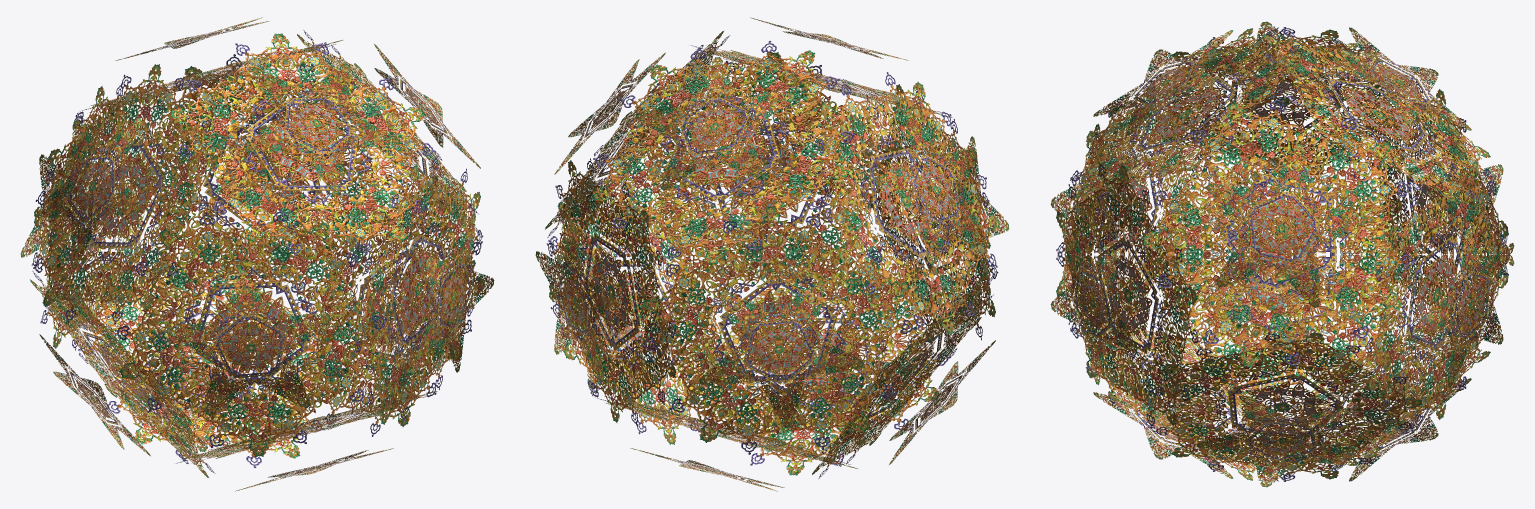
The model's file is 1SnubDodecadodecahedron.gltf.
The picture shows the model from 3 angles, left to right: view 1: azimuth 30°, elevation 25°; view 2: azimuth 150°, elevation 25°; view 3: azimuth 270°, elevation 25°; orthographic projection.
Parts seen in each view (by area): view 1: SnubDodecadodecahedron8; view 2: SnubDodecadodecahedron8; view 3: SnubDodecadodecahedron8.
Part boxes in pixels (x1=…): SnubDodecadodecahedron8: x1=20, y1=17, x2=494, y2=491; SnubDodecadodecahedron8: x1=535, y1=17, x2=1009, y2=491; SnubDodecadodecahedron8: x1=1050, y1=21, x2=1514, y2=487.
Size of the model in its own units: 2.48 by 2.48 by 2.48.
1 material, 1 textured.
